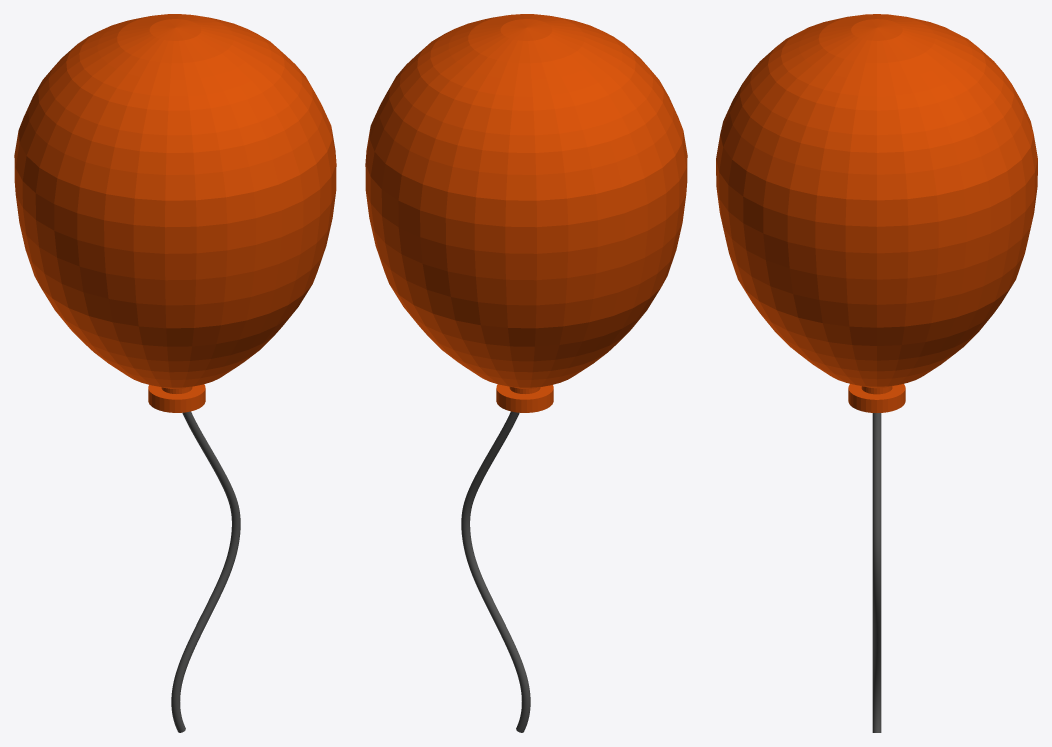
File: ss_balloon5.gltf
3 views of the same model, side by side, from view 1: azimuth 30°, elevation 25°; view 2: azimuth 150°, elevation 25°; view 3: azimuth 270°, elevation 25° (orthographic).
Visible parts, largest first — view 1: Cylinder, NurbsPath; view 2: Cylinder, NurbsPath; view 3: Cylinder, NurbsPath.
Boxes of the visible parts, x1=… form: Cylinder: x1=14, y1=14, x2=336, y2=412; NurbsPath: x1=171, y1=411, x2=240, y2=732; Cylinder: x1=365, y1=14, x2=687, y2=412; NurbsPath: x1=461, y1=411, x2=530, y2=732; Cylinder: x1=716, y1=14, x2=1037, y2=412; NurbsPath: x1=872, y1=413, x2=881, y2=732.
Size of the model in its own units: 0.5947 by 1.43 by 0.5947.
